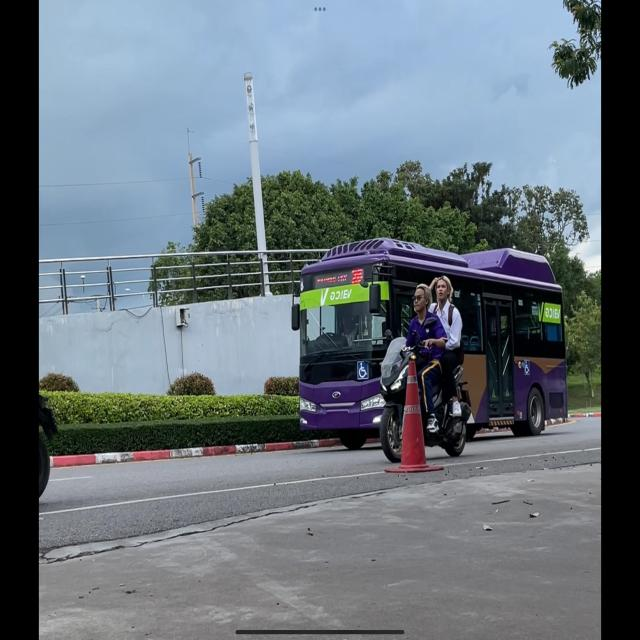seatbelt: (412, 282, 430, 313), (434, 275, 452, 302)
